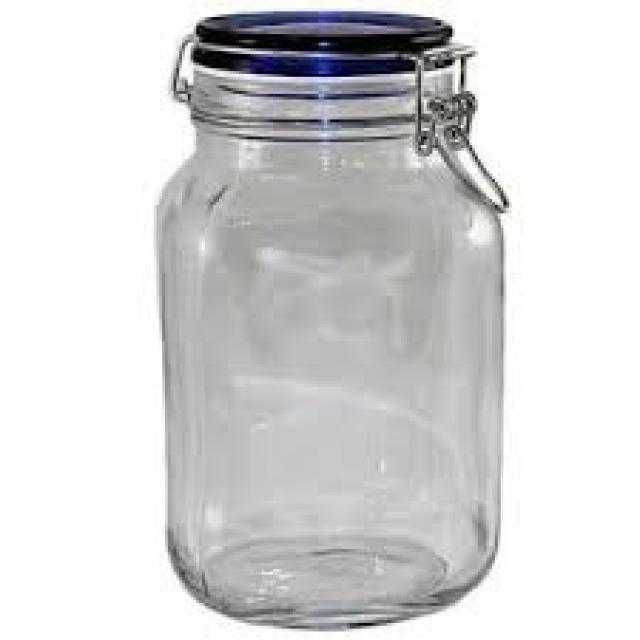glass: (154, 8, 504, 623)
